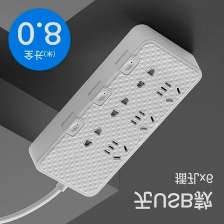three_eye_plug: (26, 20, 204, 202)
